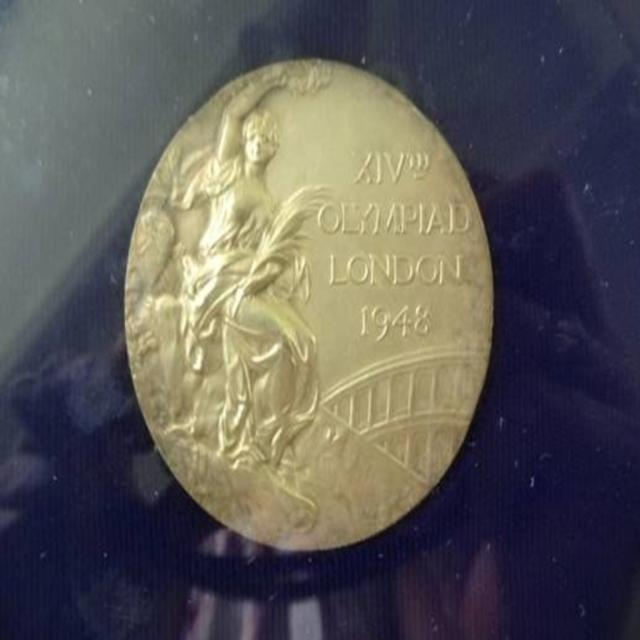Coin: (123, 54, 498, 554)
